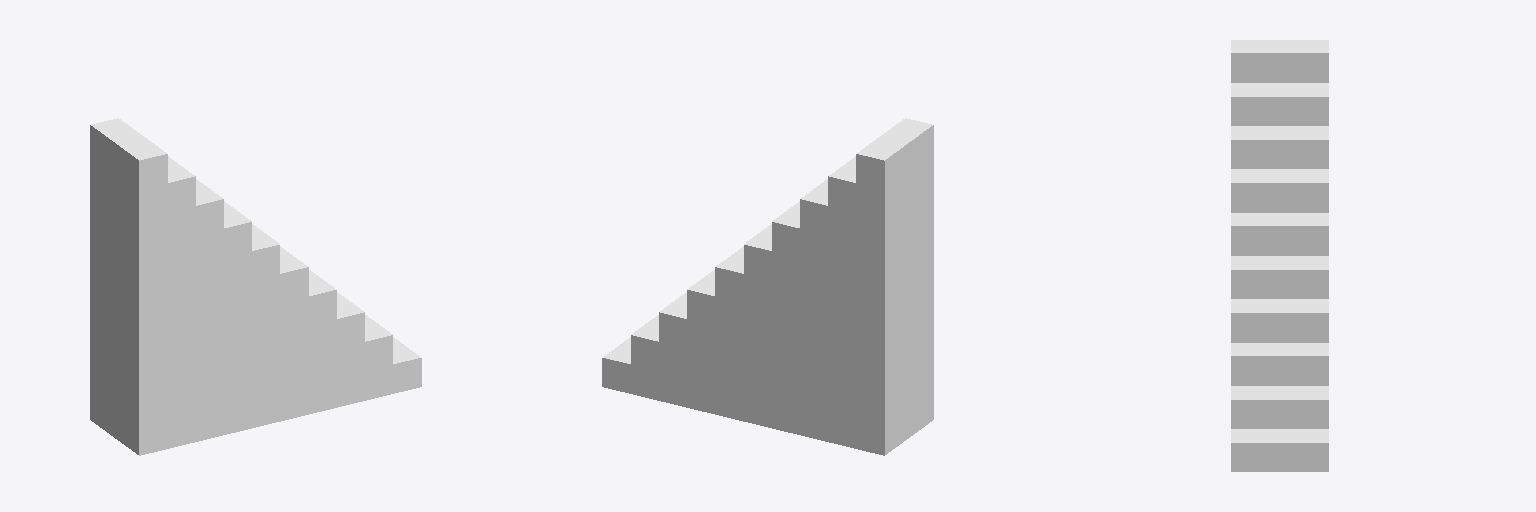
The model's file is Bauklotz_5.obj.
3 views of the same model, side by side, from view 1: azimuth 30°, elevation 25°; view 2: azimuth 150°, elevation 25°; view 3: azimuth 270°, elevation 25° (orthographic).
Parts seen in each view (by area): view 1: object 1; view 2: object 1; view 3: object 1.
Boxes of the visible parts, box(x1,y1,x2,y2) form: object 1: box(90, 118, 421, 455); object 1: box(602, 118, 933, 455); object 1: box(1231, 40, 1328, 471).
Size of the model in its own units: 1 by 1 by 0.3.